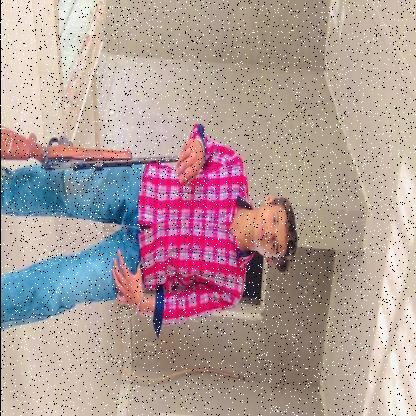rifle: (1, 129, 195, 179)
